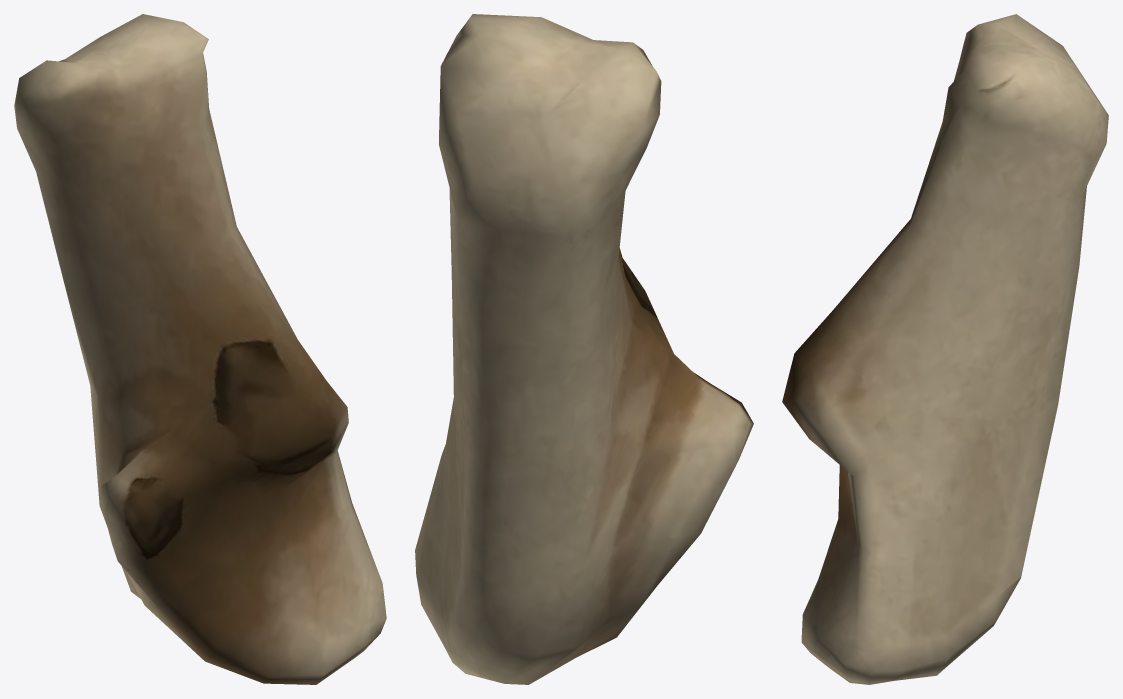
Rendered from Calcaneus.glb.
The picture shows the model from 3 angles, left to right: view 1: azimuth 30°, elevation 25°; view 2: azimuth 150°, elevation 25°; view 3: azimuth 270°, elevation 25°; orthographic projection. The views are drawn at different scales.
Parts seen in each view (by area): view 1: Calcaneus_Left1:Group1915; view 2: Calcaneus_Left1:Group1915; view 3: Calcaneus_Left1:Group1915.
Boxes of the visible parts, x1=… form: Calcaneus_Left1:Group1915: x1=14, y1=14, x2=386, y2=684; Calcaneus_Left1:Group1915: x1=415, y1=14, x2=753, y2=684; Calcaneus_Left1:Group1915: x1=782, y1=14, x2=1108, y2=684.
Bounding box in the file's own units: 20.32 × 42.77 × 21.58.
1 material, 1 textured.
